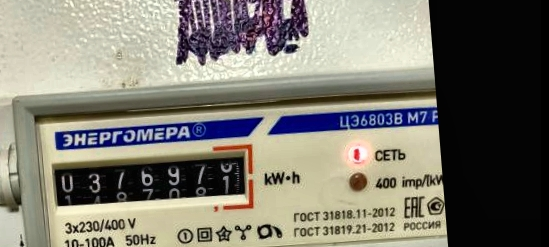0: (58, 170, 75, 193)
1: (220, 173, 230, 195)
3: (86, 171, 101, 193)
6: (138, 163, 155, 187)
7: (112, 166, 128, 190), (192, 159, 207, 183)
9: (165, 162, 181, 186)
screen: (41, 138, 260, 227)
